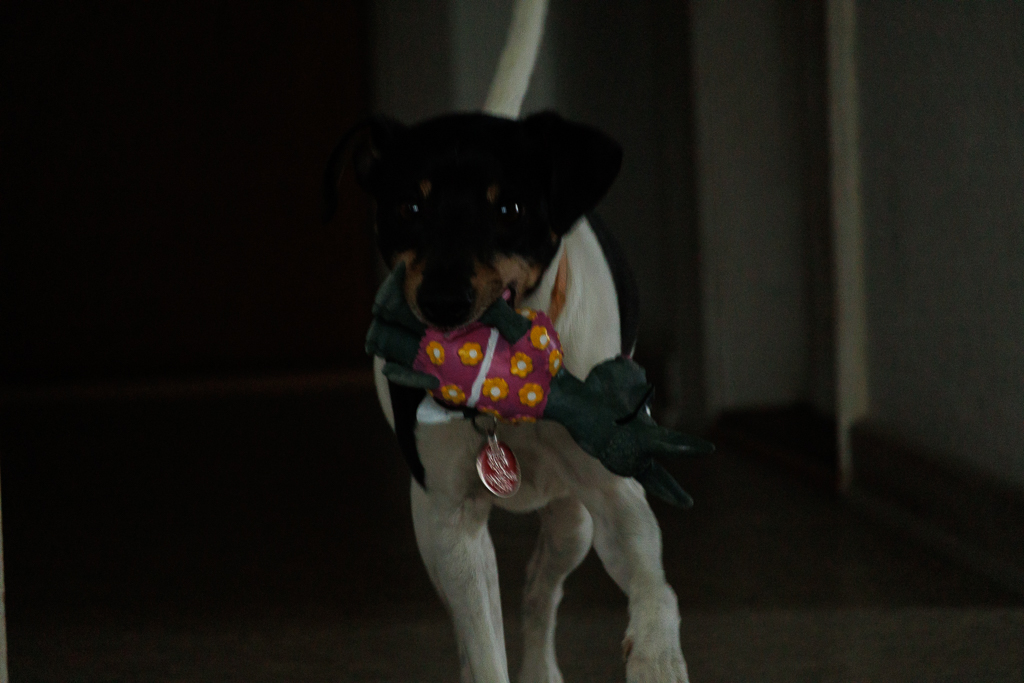Dog: (319, 0, 725, 683)
Humanoid: (351, 267, 710, 528)
